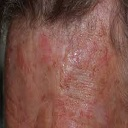Carcinoma: (14, 47, 120, 124)
